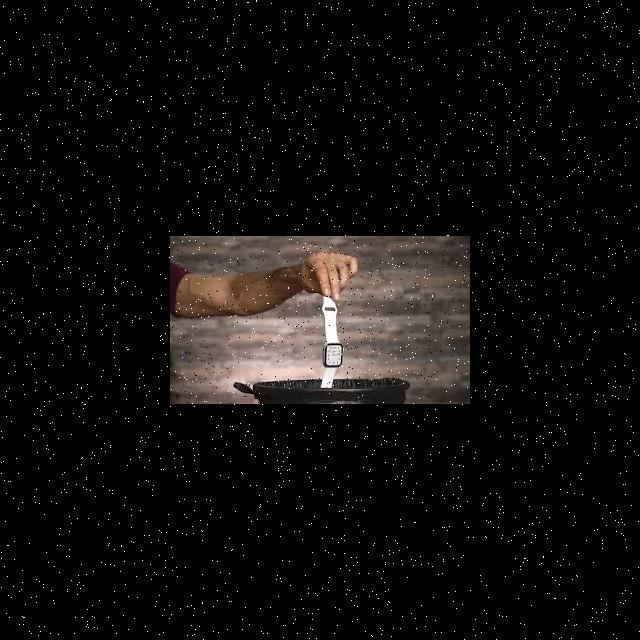watch: (317, 273, 360, 402)
